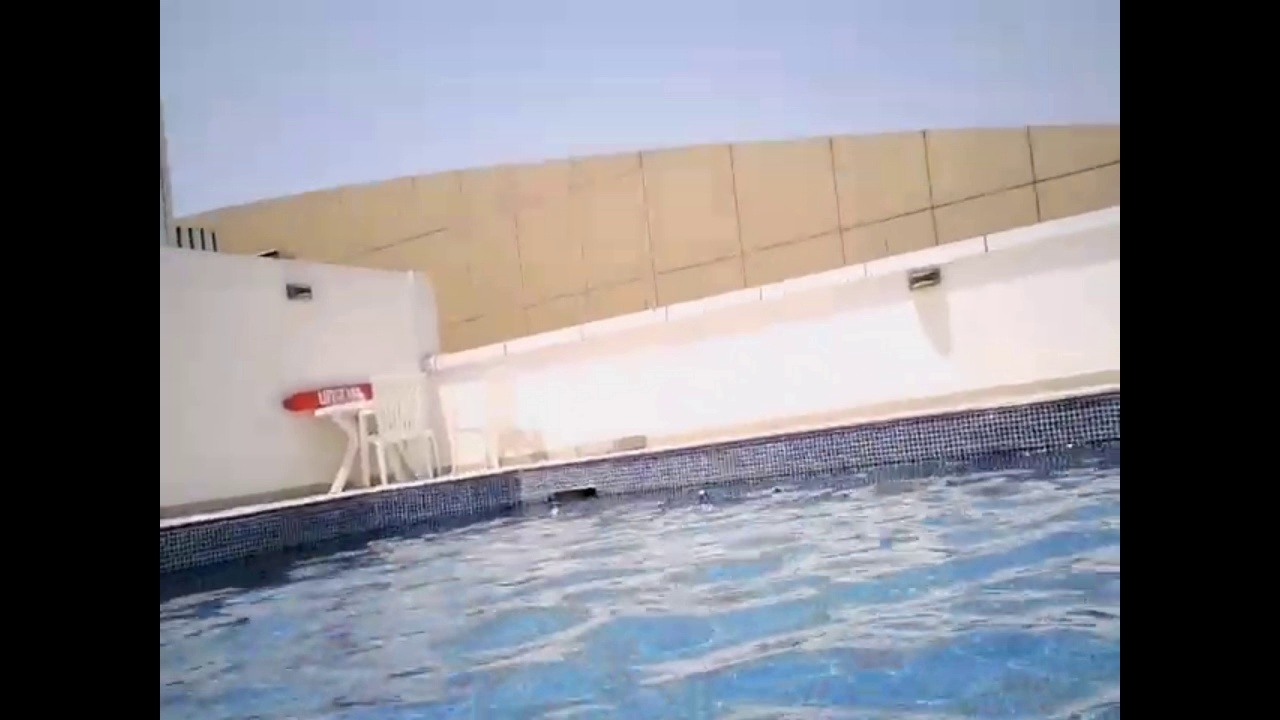debris: (694, 488, 710, 506), (546, 499, 561, 518), (767, 483, 786, 498)
